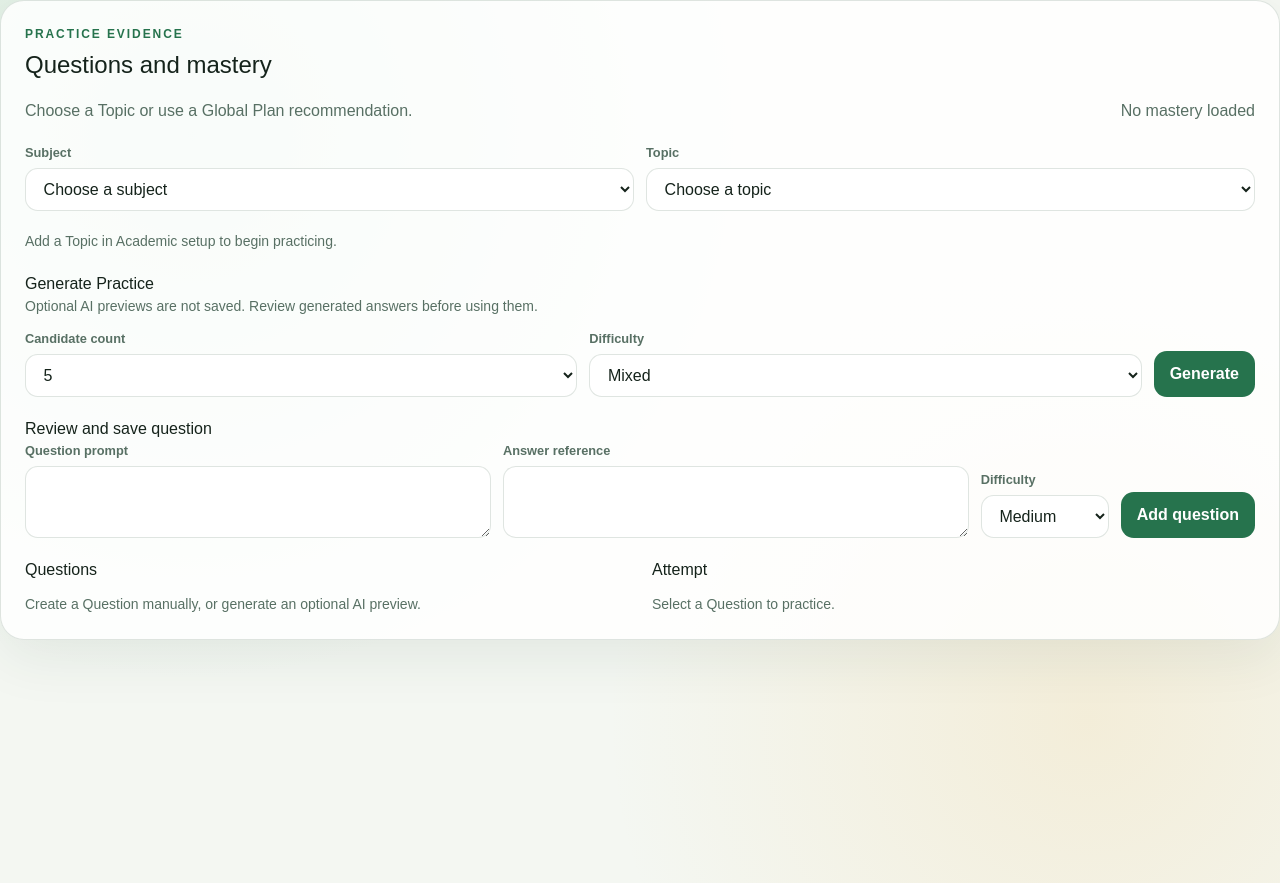
PracticeManager › copies one candidate into the editable existing Question form and saves normally
Click the button "Generate" at (1204, 374), box top-left (1154, 351), bottom-right (1255, 397)
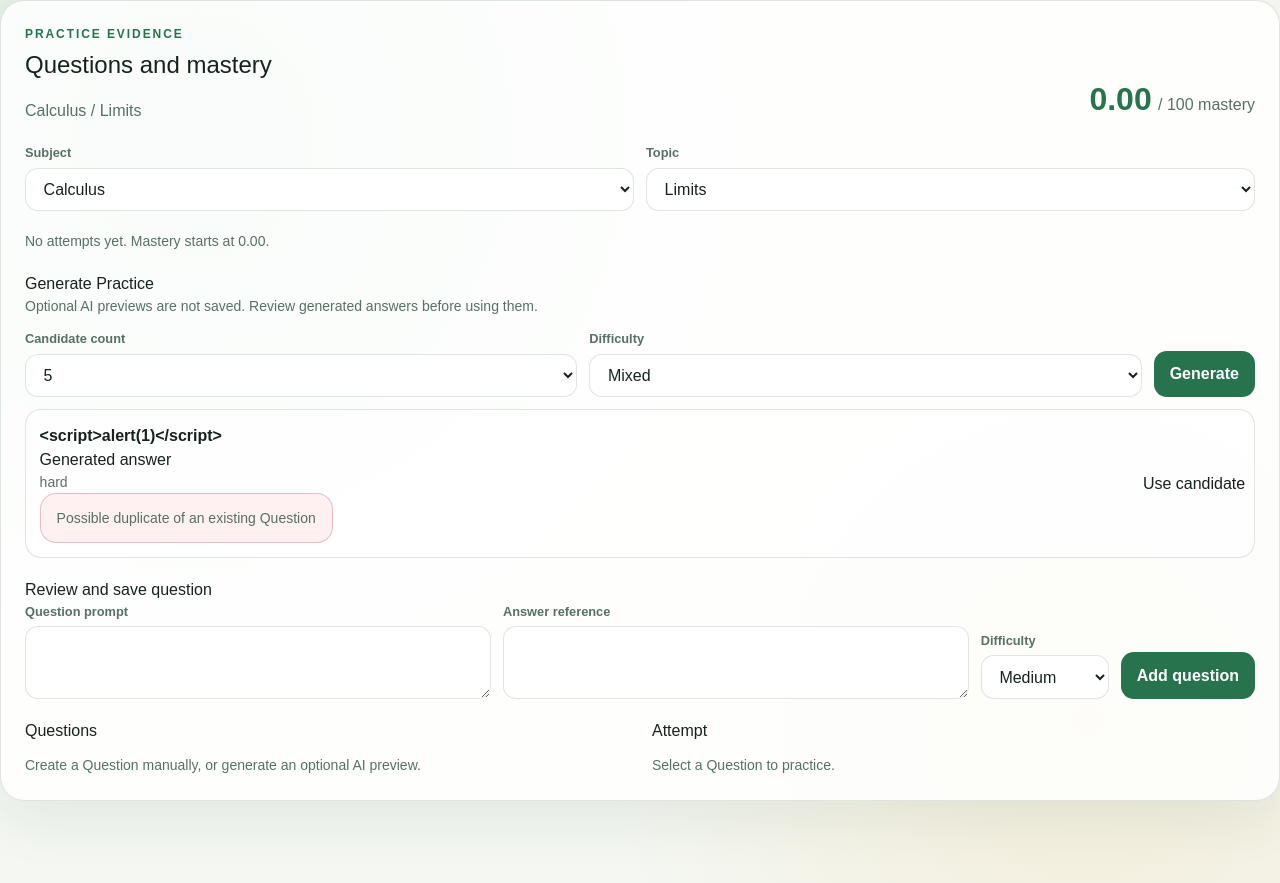
Click the button "Use candidate" at (1194, 484), box top-left (1143, 472), bottom-right (1245, 496)
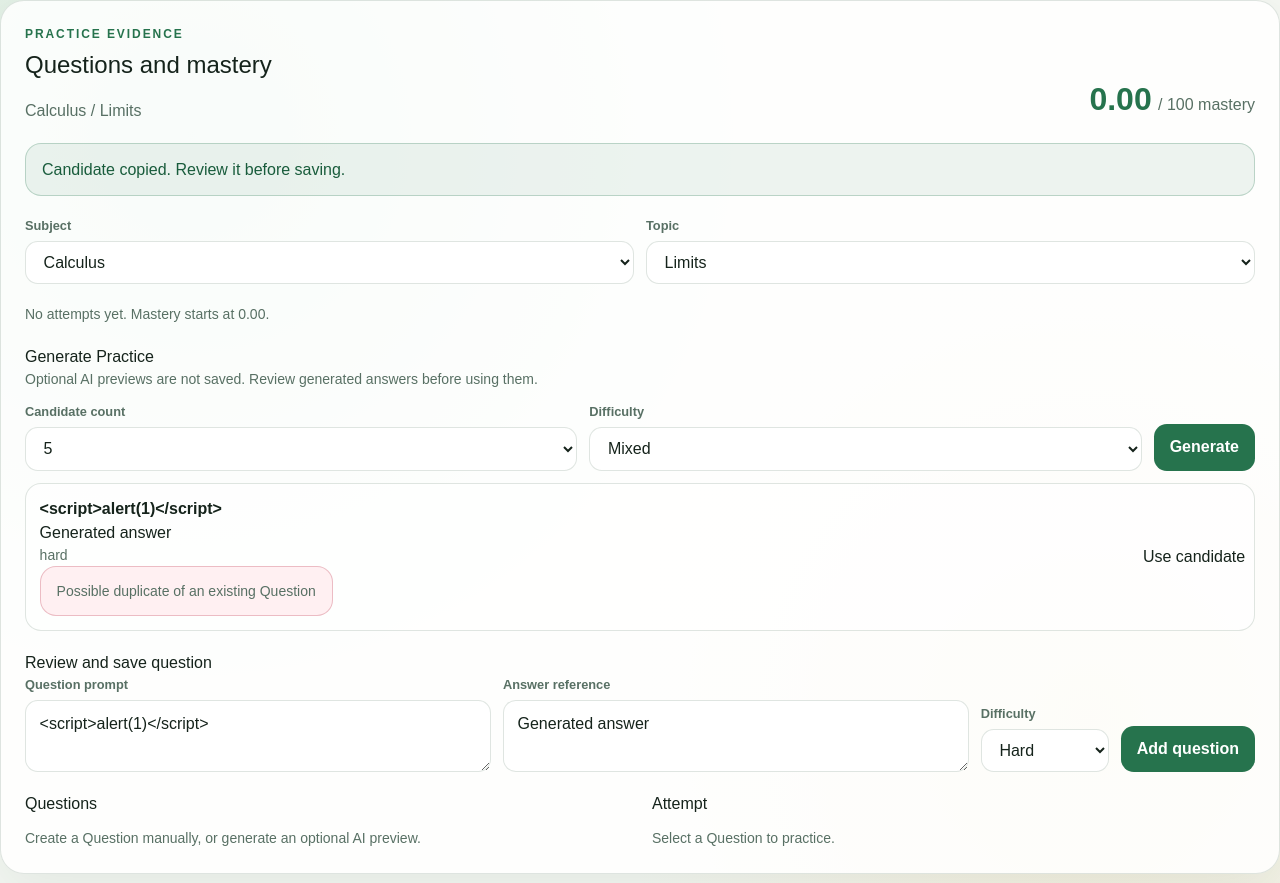
Check: the text box labelled "Question prompt" holds "<script>alert(1)</script>"
Check: the text box labelled "Answer reference" holds "Generated answer", box top-left (503, 700), bottom-right (969, 772)
Check: the dropdown named "Question difficulty" shows "Hard", box top-left (981, 729), bottom-right (1109, 772)
Replace the text in the text box labelled "Question prompt" with "Reviewed prompt" at (258, 736), box top-left (25, 700), bottom-right (491, 772)
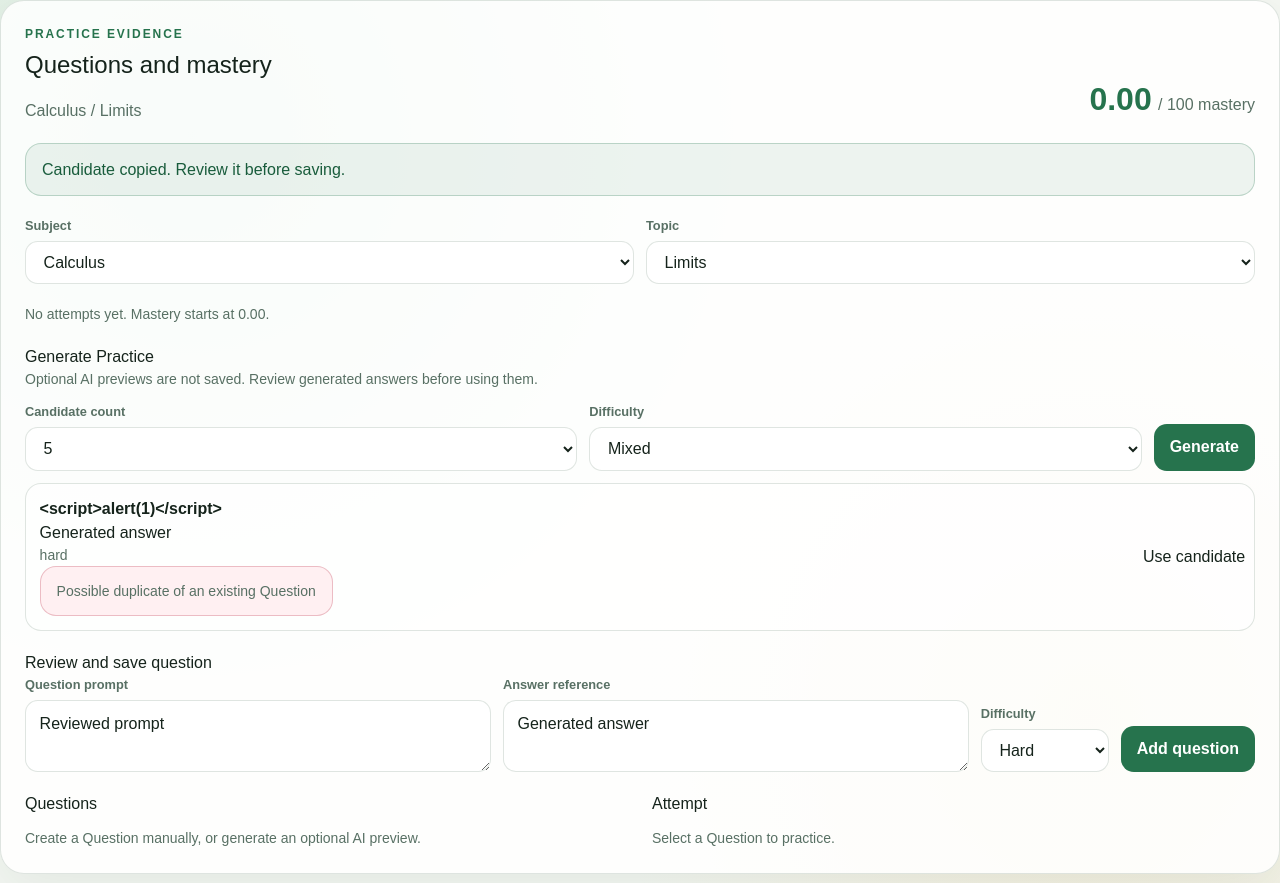
Click the button "Add question" at (1188, 749), box top-left (1121, 726), bottom-right (1255, 772)
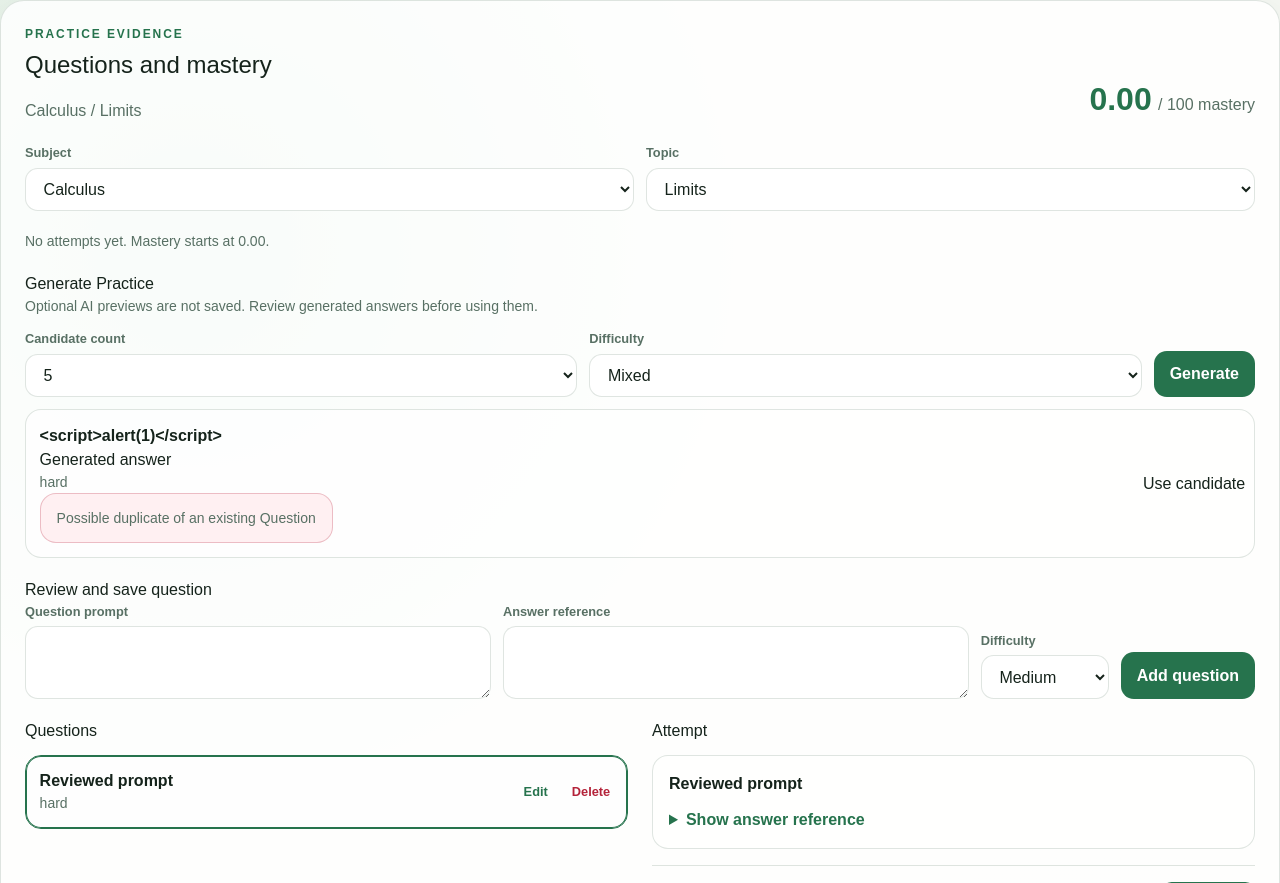
Check: the 1st text "Reviewed prompt" is shown, box top-left (40, 769), bottom-right (173, 793)
